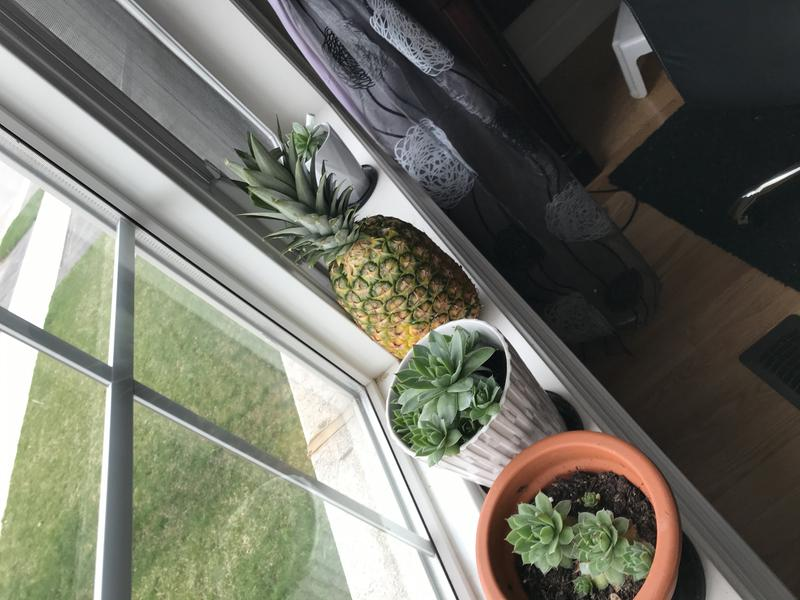pineapple: (217, 110, 492, 368)
